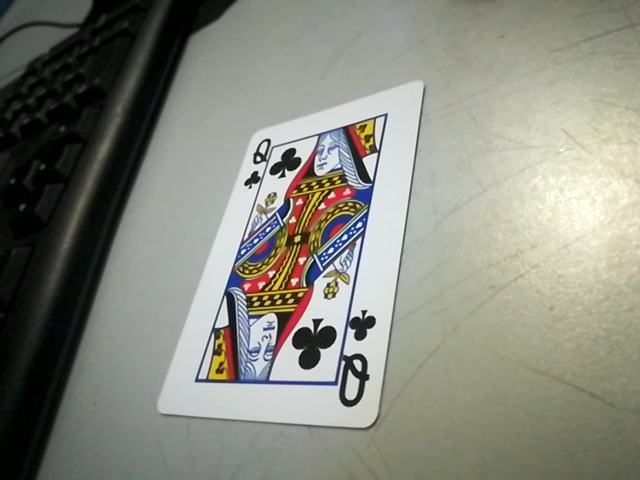mh q: (334, 309, 385, 420)
